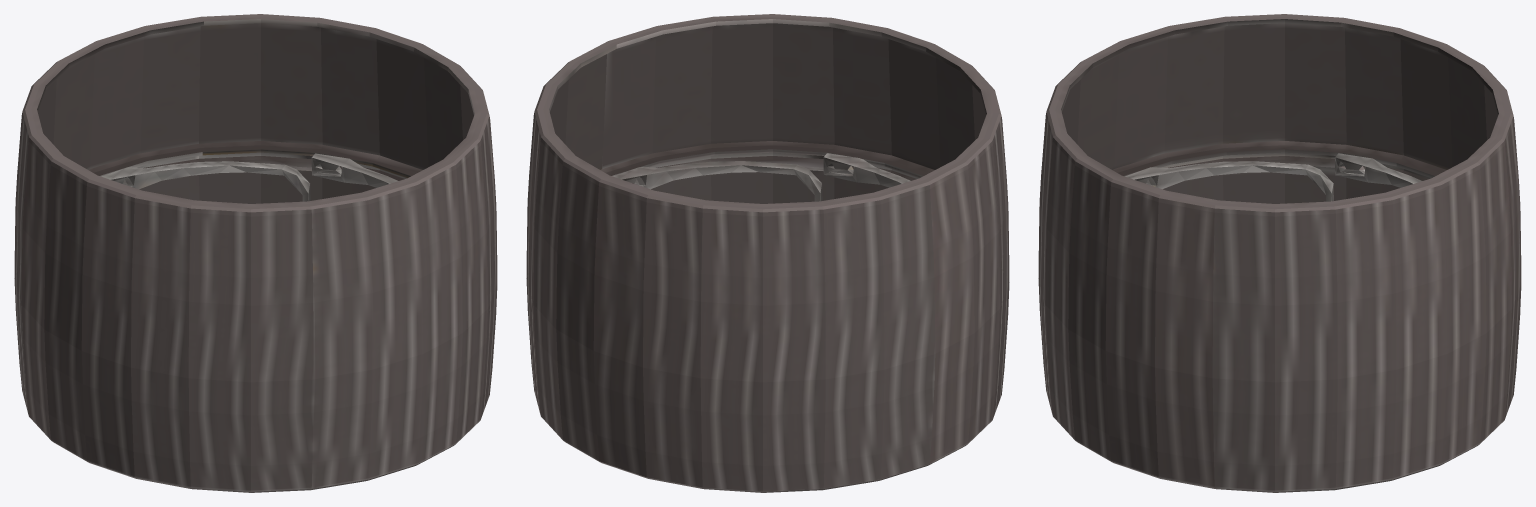
File: Wheel_RightFront.gltf
3 views of the same model, side by side, from view 1: azimuth 30°, elevation 25°; view 2: azimuth 150°, elevation 25°; view 3: azimuth 270°, elevation 25° (orthographic).
Visible parts, largest first — view 1: Mesh_0; view 2: Mesh_0; view 3: Mesh_0.
Boxes of the visible parts, box(x1,y1,x2,y2) form: Mesh_0: box(14, 14, 497, 492); Mesh_0: box(526, 14, 1009, 492); Mesh_0: box(1038, 14, 1521, 492).
Bounding box in the file's own units: 0.5098 × 0.3306 × 0.5098.
1 material, 1 textured.
